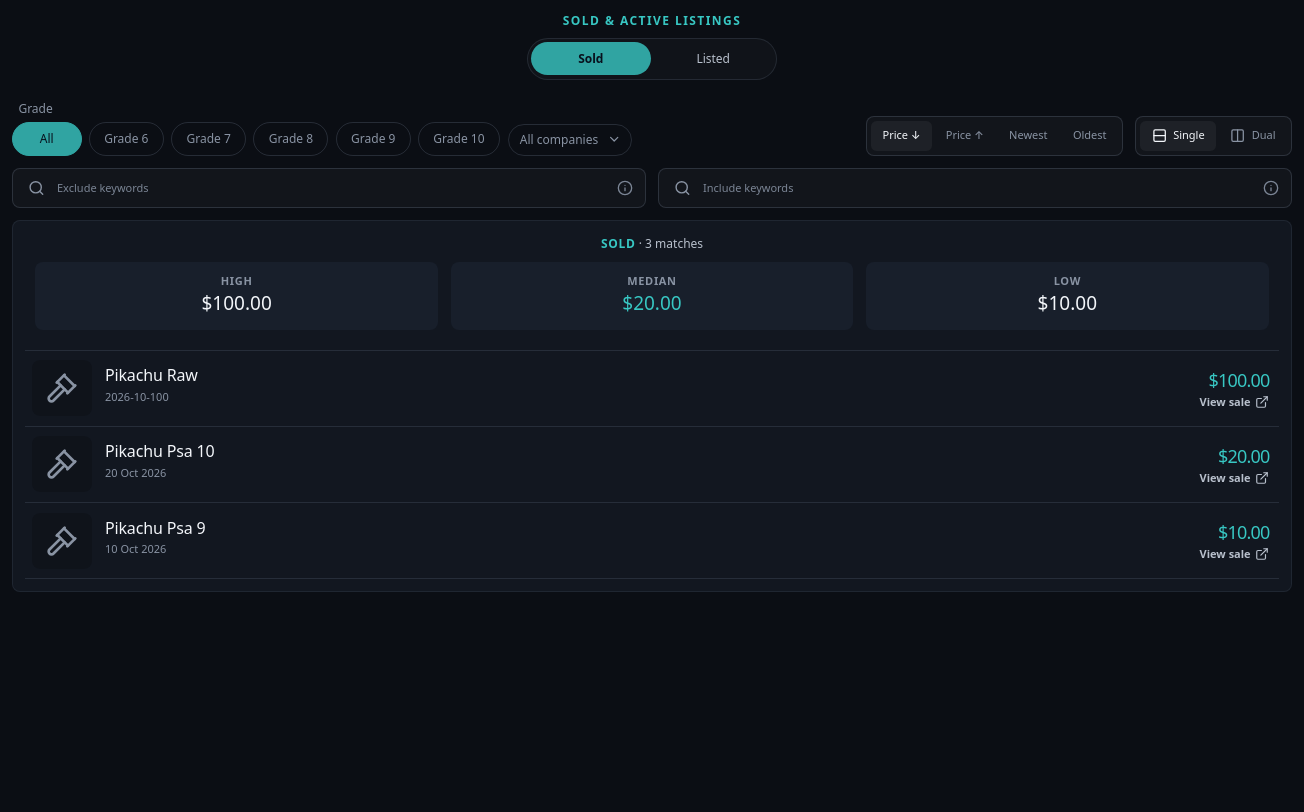
Test case: summarizes prices from the complete filtered result set using the median
Expected: the element named "Sold price summary" reads "High $100.00 Median $20.00 Low $10.00", [29, 250, 1275, 334]
Step 1. Type "PSA" into the search field labelled "Include keywords" → (975, 188), box [658, 168, 1292, 208]
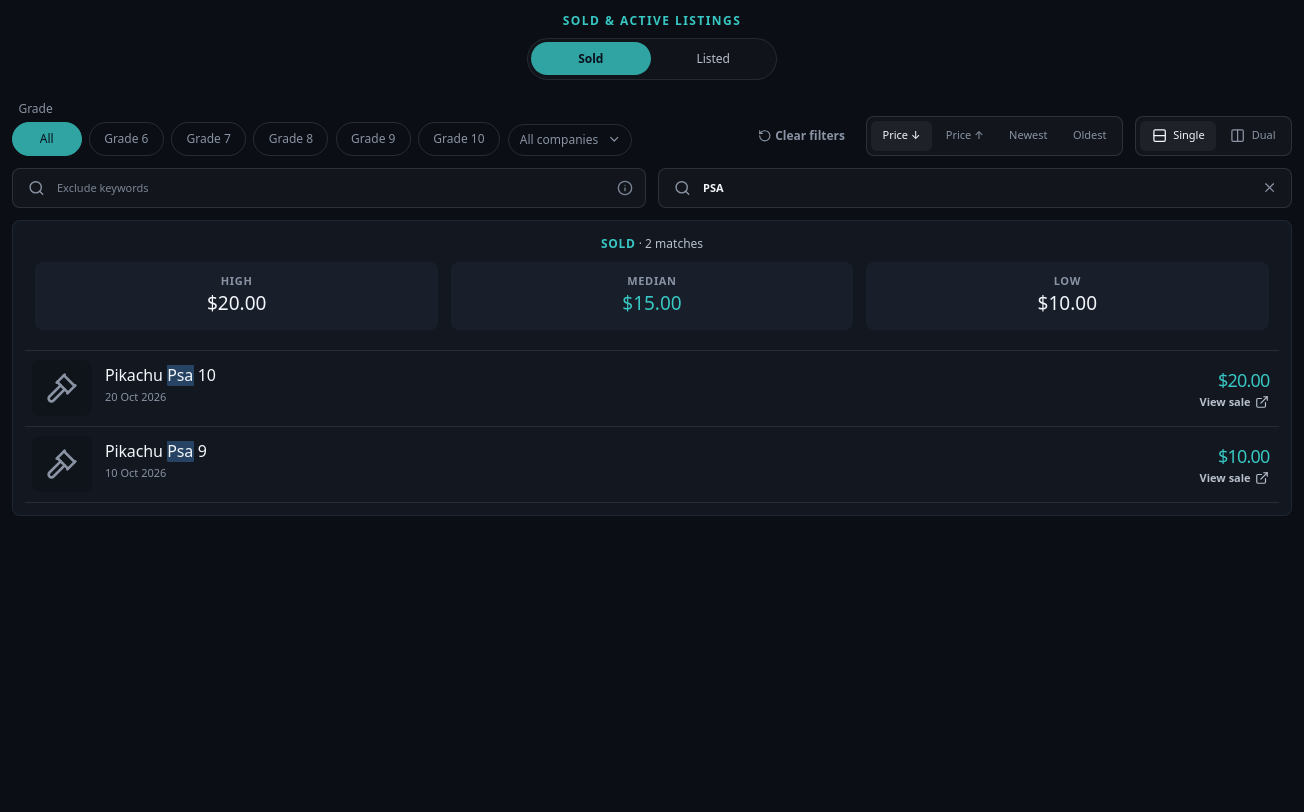
Now the element named "Sold price summary" reads "High $20.00 Median $15.00 Low $10.00", box [29, 250, 1275, 334]
